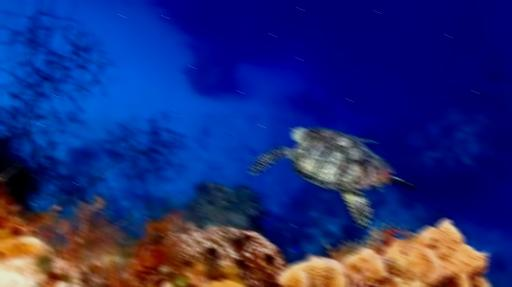Fish: (249, 128, 415, 226)
